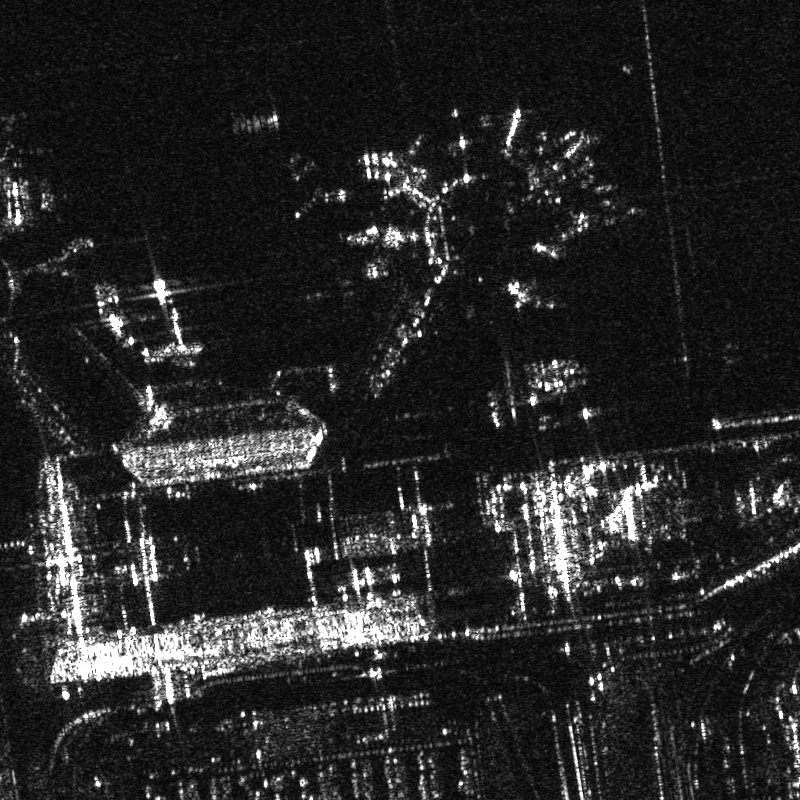A220: (293, 155, 351, 220), (312, 269, 357, 310)
